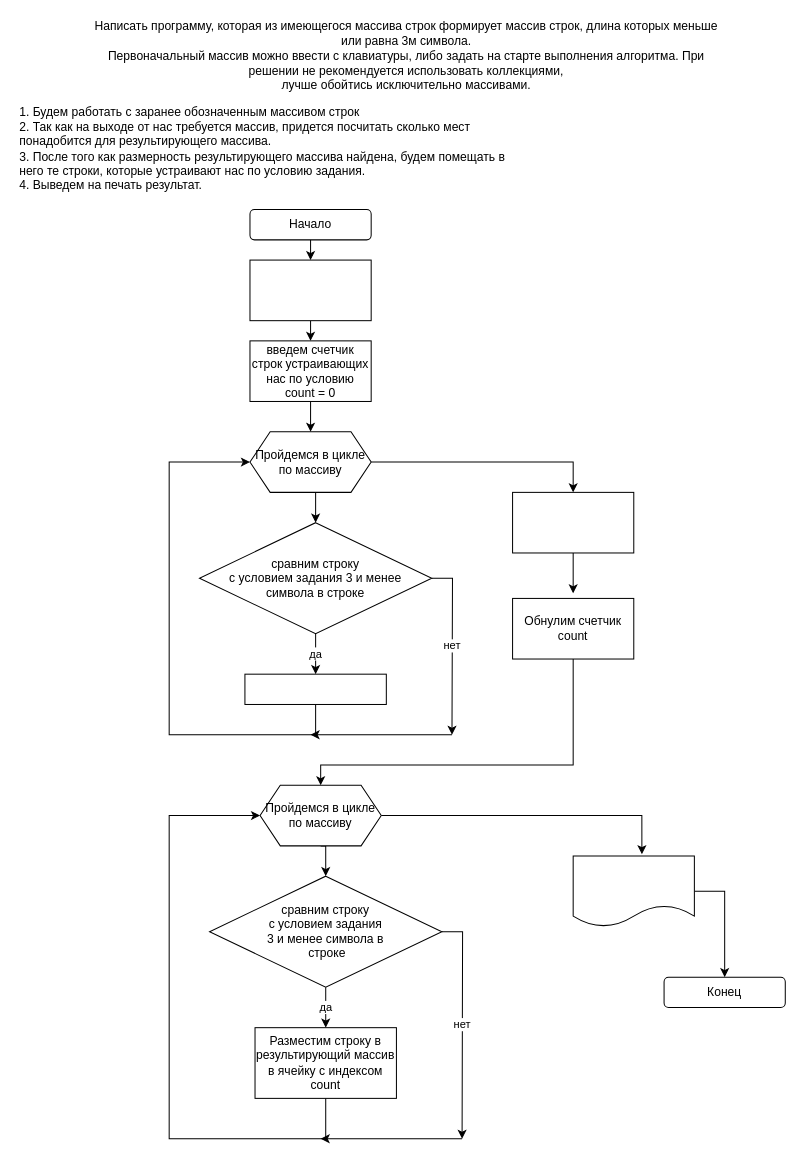
The diagram is 803 pixels wide and 1165 high, and some of its shapes have lost their labels. The shapes that lost their labels are listed below. From the top down, each one's centre as x and y in pixels, then its label:
[310,290]: Инициализируем первичный массив
[573,522]: Инициализируем результирующий массив, размером count
[315,688]: увеличим счетчик на 1
[633,891]: вывод результирующего массива
